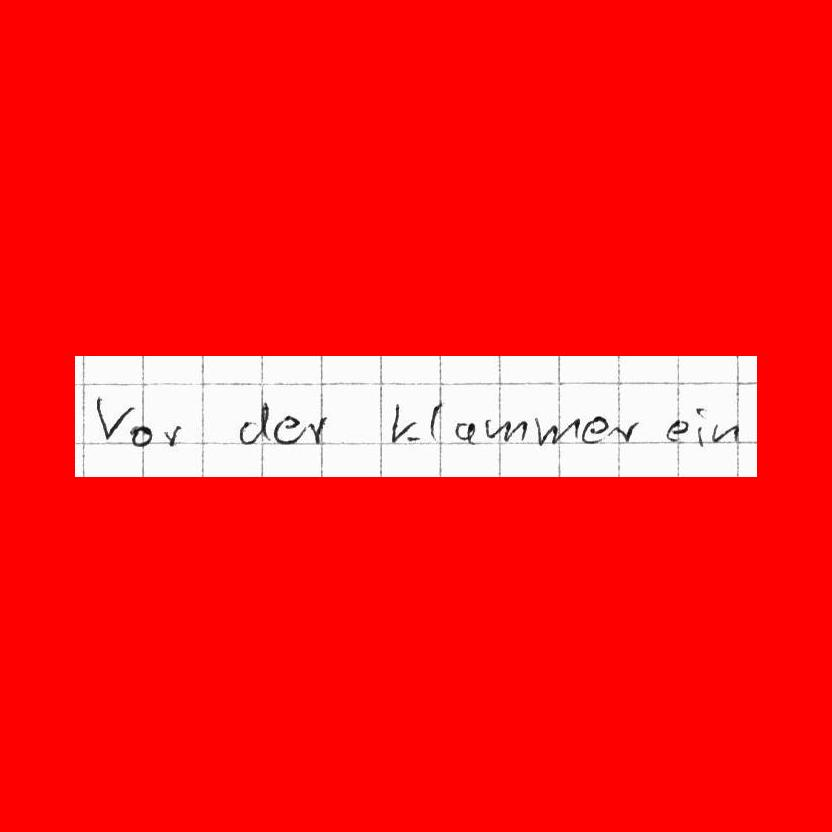Char: (93, 392, 129, 446), (236, 399, 272, 446), (534, 415, 581, 447), (389, 400, 419, 445), (483, 416, 530, 444), (274, 413, 304, 445), (582, 416, 610, 444), (710, 419, 739, 446), (611, 417, 641, 442), (304, 415, 328, 445), (427, 400, 444, 441), (664, 417, 690, 442), (129, 422, 153, 447), (453, 418, 477, 443), (694, 405, 707, 447), (163, 423, 183, 447)
